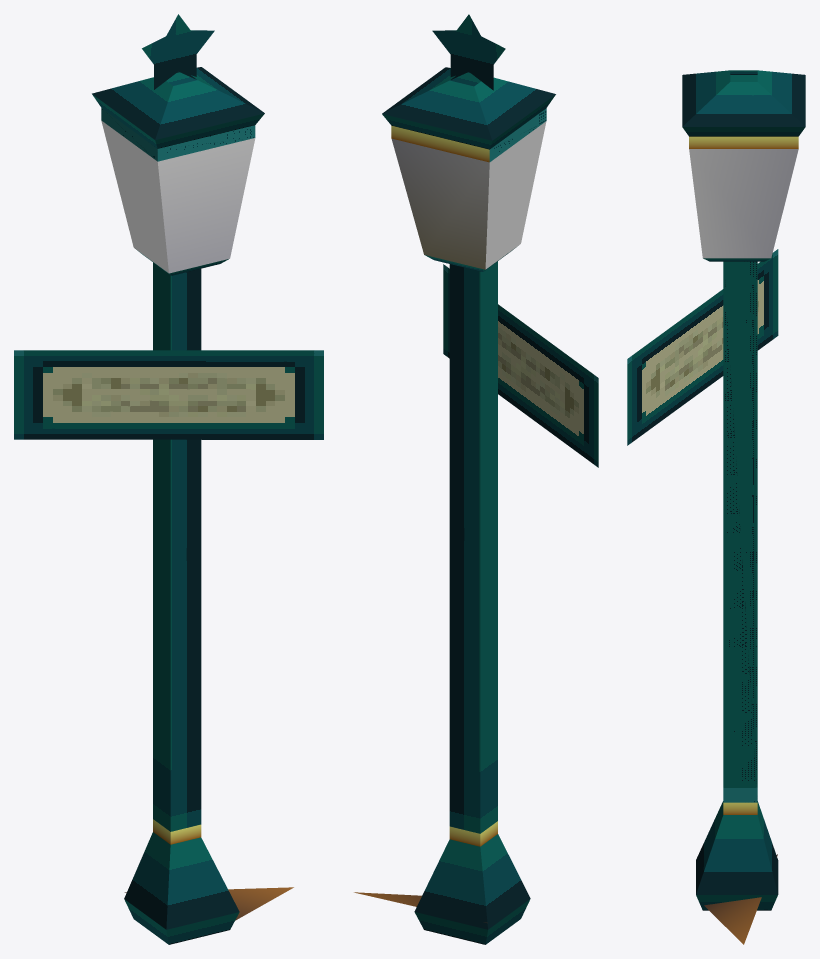
The model's file is lamp.obj.
3 renders of one model, left to right at view 1: azimuth 30°, elevation 25°; view 2: azimuth 150°, elevation 25°; view 3: azimuth 270°, elevation 25°, orthographic. The views are drawn at different scales.
Size of the model in its own units: 0.043 by 0.142 by 0.026.
Materials: 2 (1 with a texture image).
